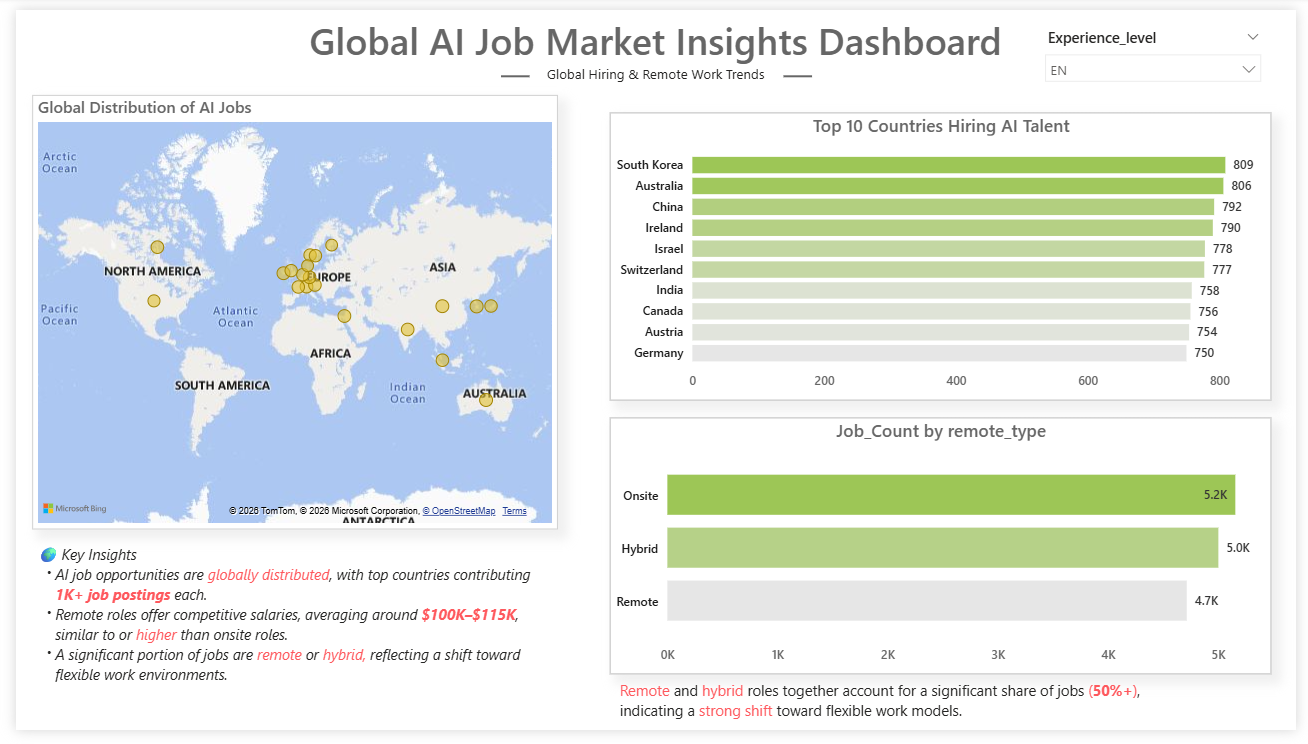

The page's visual inventory and layout, read from the dashboard file:
{"tool":"powerbi","page":{"name":"Location And Remote","canvas":[1280,720],"ordinal":3},"visuals":[{"type":"textbox","box":[62.9,0,1154.5,93.1],"z":0},{"type":"shape","box":[767.4,29.7,28.6,72.6],"z":1000},{"type":"shape","box":[485.4,29.7,28.6,72.6],"z":2000},{"type":"map","title":"Global Distribution of AI Jobs","fields":{"Category":["ai_job_dataset.company_location"],"Size":["ai_job_dataset.Job_Count"]},"box":[16.7,84.5,525.9,434.3],"z":3000},{"type":"textbox","box":[16.7,528.3,525.9,167.8],"z":4000},{"type":"clusteredBarChart","title":"Top 10 Countries Hiring AI Talent","fields":{"Category":["ai_job_dataset.company_location"],"Y":["ai_job_dataset.Job_Count"]},"box":[593.7,102.3,661.5,287.9],"z":5000},{"type":"clusteredBarChart","fields":{"Category":["ai_job_dataset.remote_type"],"Y":["ai_job_dataset.Job_Count"]},"box":[593.7,408.1,661.5,257],"z":6000},{"type":"textbox","box":[598.5,665.1,573.5,54.7],"z":7000},{"type":"slicer","fields":{"Values":["ai_job_dataset.experience_level"]},"box":[1018.5,13.1,236.8,84.5],"z":8000}]}

Visuals, with their boxes in screenshot pixels (x1, y1, x2, y2), scaled from the page's 1280x720 canvas onto the 1308x744 screenshot:
textbox: Rect(64, 0, 1244, 96)
shape: Rect(784, 31, 813, 106)
shape: Rect(496, 31, 525, 106)
"Global Distribution of AI Jobs" map: Rect(17, 87, 554, 536)
textbox: Rect(17, 546, 554, 719)
"Top 10 Countries Hiring AI Talent" clusteredBarChart: Rect(607, 106, 1283, 403)
clusteredBarChart - ai_job_dataset.remote_type x ai_job_dataset.Job_Count: Rect(607, 422, 1283, 687)
textbox: Rect(612, 687, 1198, 743)
slicer - ai_job_dataset.experience_level: Rect(1041, 14, 1283, 101)
